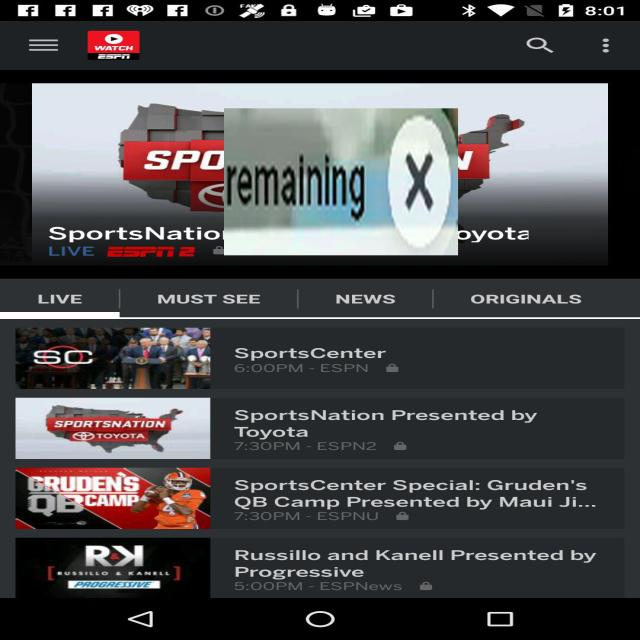misdirection: (224, 108, 458, 255)
